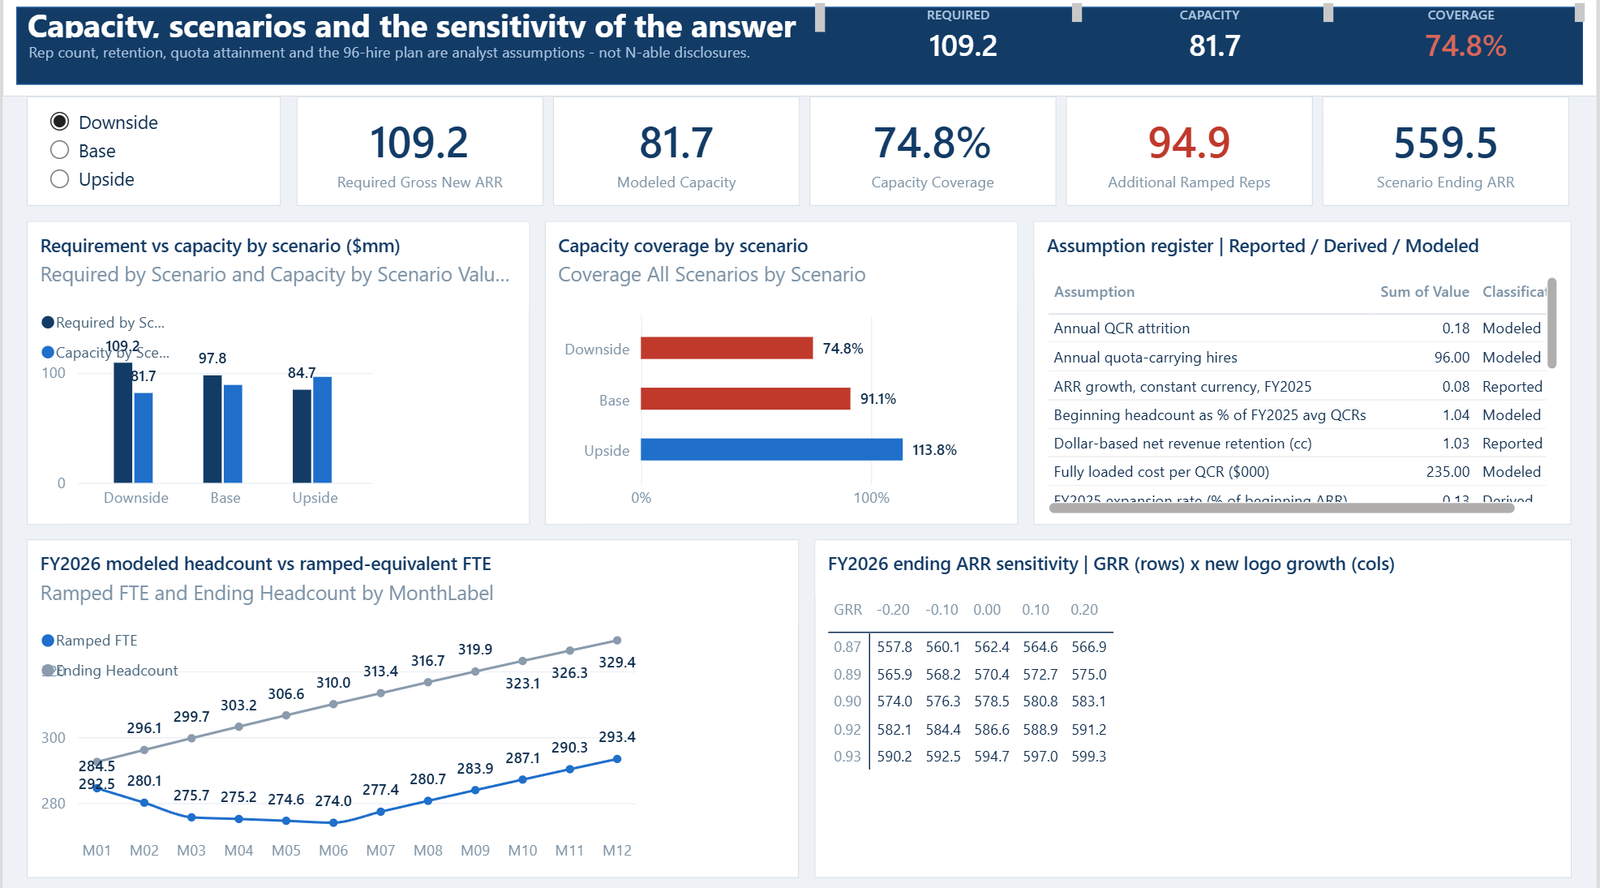

This screenshot's page, from the dashboard's own definition file:
{"tool":"powerbi","page":{"name":"GTM Capacity & Scenarios","canvas":[1280,720],"ordinal":2},"visuals":[{"type":"shape","box":[0,0,1280,80.6],"z":0},{"type":"textbox","box":[20,6,640,28],"z":1000},{"type":"textbox","box":[21.2,36.6,639.6,35],"z":2000},{"type":"card","fields":{"Values":["_Measures.Required Gross New ARR"]},"box":[676,22,190,36],"z":3000},{"type":"card","fields":{"Values":["_Measures.Modeled Capacity"]},"box":[878,22,190,36],"z":4000},{"type":"card","fields":{"Values":["_Measures.Capacity Coverage"]},"box":[1080,22,190,36],"z":5000},{"type":"slicer","fields":{"Values":["Scenario.Scenario"]},"box":[19.7,80.4,204,88],"z":6000},{"type":"card","fields":{"Values":["_Measures.Required Gross New ARR"]},"box":[235.7,80.4,198,88],"z":7000},{"type":"card","fields":{"Values":["_Measures.Modeled Capacity"]},"box":[441.7,80.4,198,88],"z":8000},{"type":"card","fields":{"Values":["_Measures.Capacity Coverage"]},"box":[647.7,80.4,198,88],"z":9000},{"type":"card","fields":{"Values":["_Measures.Additional Ramped Reps"]},"box":[853.7,80.4,198,88],"z":10000},{"type":"card","fields":{"Values":["_Measures.Scenario Ending ARR"]},"box":[1059.7,80.4,198,88],"z":11000},{"type":"clusteredColumnChart","title":"Requirement vs capacity by scenario  ($mm)","fields":{"Category":["Capacity by Scenario.Scenario"],"Y":["_Measures.Required by Scenario","_Measures.Capacity by Scenario Value"]},"box":[19.7,180.4,404,244],"z":12000},{"type":"clusteredBarChart","title":"Capacity coverage by scenario","fields":{"Category":["Coverage by Scenario.Scenario"],"Y":["_Measures.Coverage All Scenarios"]},"box":[435.7,180.4,380,244],"z":13000},{"type":"tableEx","title":"Assumption register  |  Reported / Derived / Modeled","fields":{"Values":["Assumptions.Assumption","Sum(Assumptions.Value)","Assumptions.Classification"]},"box":[827.7,180.4,432,244],"z":14000},{"type":"lineChart","title":"FY2026 modeled headcount vs ramped-equivalent FTE","fields":{"Category":["Capacity Monthly.MonthLabel"],"Y":["_Measures.Ramped FTE","_Measures.Ending Headcount"]},"box":[19.7,436.4,620,272],"z":15000},{"type":"pivotTable","title":"FY2026 ending ARR sensitivity  |  GRR (rows) x new logo growth (cols)","fields":{"Columns":["Sensitivity.NewLogoGrowth"],"Rows":["Sensitivity.GRR"],"Values":["_Measures.Sensitivity Ending ARR"]},"box":[651.7,436.4,608,272],"z":16000},{"type":"textbox","box":[1080,6,190,15],"z":17000},{"type":"textbox","box":[676,6,190,15],"z":18000},{"type":"textbox","box":[878,6,190,15],"z":19000}]}

Visuals, with their boxes in screenshot pixels (x1, y1, x2, y2), scaled from the page's 1280x720 canvas onto the 1600x888 screenshot:
shape: rect(0, 0, 1599, 99)
textbox: rect(25, 7, 825, 42)
textbox: rect(26, 45, 826, 88)
card - _Measures.Required Gross New ARR: rect(845, 27, 1082, 72)
card - _Measures.Modeled Capacity: rect(1098, 27, 1335, 72)
card - _Measures.Capacity Coverage: rect(1350, 27, 1588, 72)
slicer - Scenario.Scenario: rect(25, 99, 280, 208)
card - _Measures.Required Gross New ARR: rect(295, 99, 542, 208)
card - _Measures.Modeled Capacity: rect(552, 99, 800, 208)
card - _Measures.Capacity Coverage: rect(810, 99, 1057, 208)
card - _Measures.Additional Ramped Reps: rect(1067, 99, 1315, 208)
card - _Measures.Scenario Ending ARR: rect(1325, 99, 1572, 208)
"Requirement vs capacity by scenario  ($mm)" clusteredColumnChart: rect(25, 222, 530, 523)
"Capacity coverage by scenario" clusteredBarChart: rect(545, 222, 1020, 523)
"Assumption register  |  Reported / Derived / Modeled" tableEx: rect(1035, 222, 1575, 523)
"FY2026 modeled headcount vs ramped-equivalent FTE" lineChart: rect(25, 538, 800, 874)
"FY2026 ending ARR sensitivity  |  GRR (rows) x new logo growth (cols)" pivotTable: rect(815, 538, 1575, 874)
textbox: rect(1350, 7, 1588, 26)
textbox: rect(845, 7, 1082, 26)
textbox: rect(1098, 7, 1335, 26)
